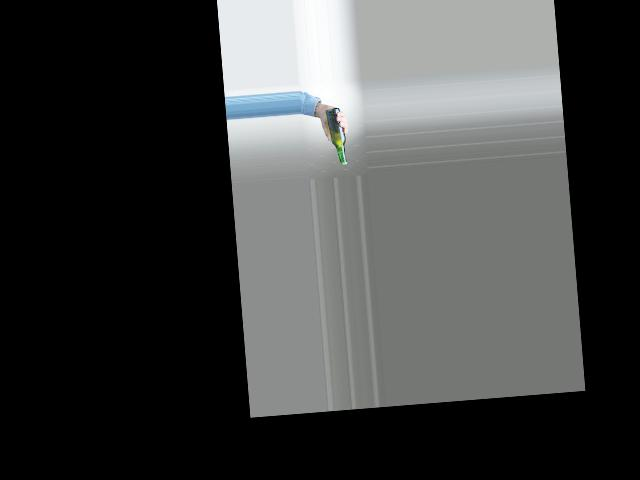beer: (324, 107, 347, 166)
